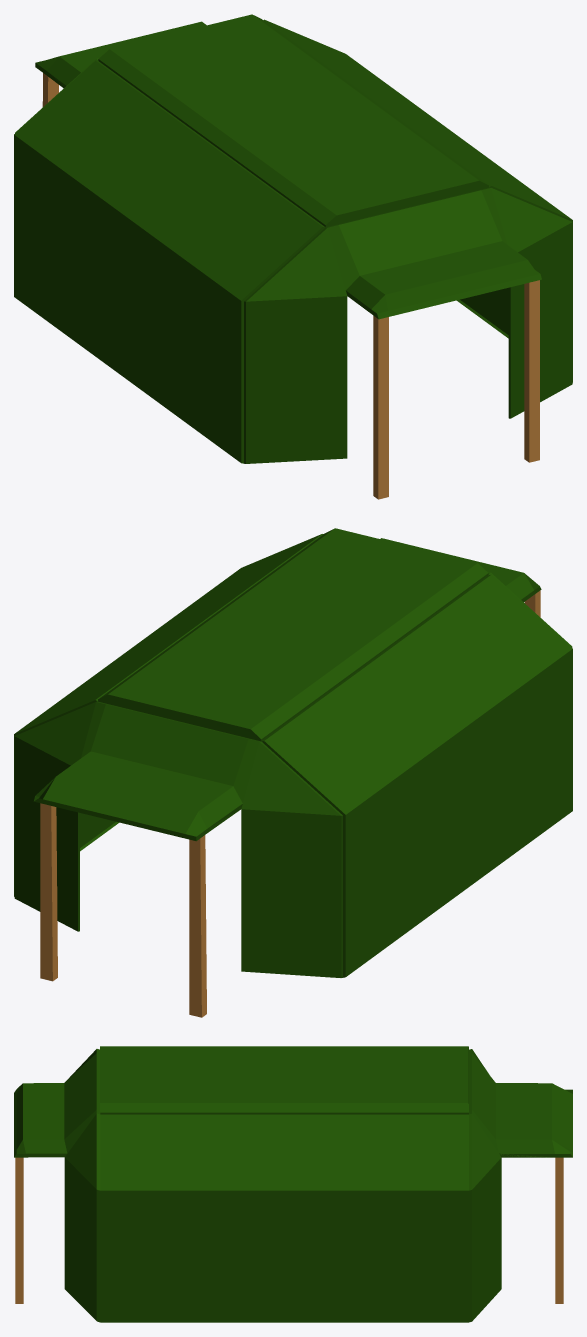
The model's file is tent_1.fbx.
3 renders of one model, top to bottom at view 1: azimuth 30°, elevation 25°; view 2: azimuth 150°, elevation 25°; view 3: azimuth 270°, elevation 25°, orthographic. The views are drawn at different scales.
Parts seen in each view (by area): view 1: Cube.018; view 2: Cube.018; view 3: Cube.018.
Boxes of the visible parts, x1=… form: Cube.018: x1=14, y1=14, x2=572, y2=499; Cube.018: x1=14, y1=528, x2=572, y2=1017; Cube.018: x1=14, y1=1046, x2=572, y2=1322.
Bounding box in the file's own units: 573 × 402 × 1029.
